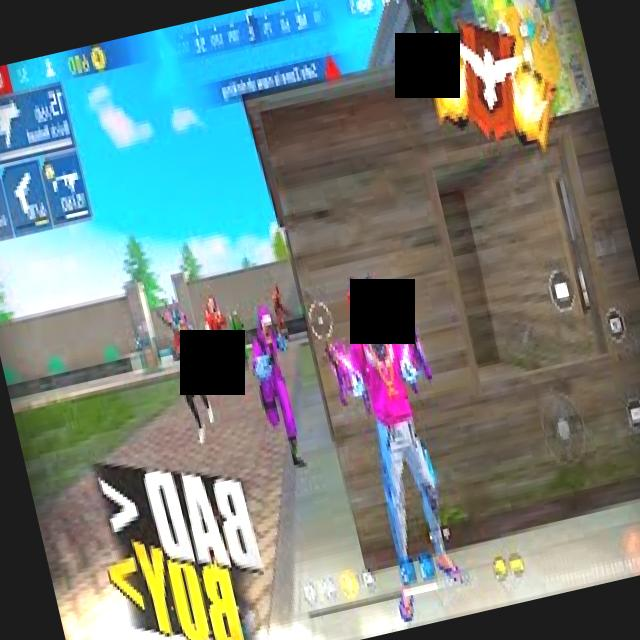character: (238, 298, 316, 474), (160, 306, 222, 444), (198, 292, 242, 392), (224, 309, 254, 366)
